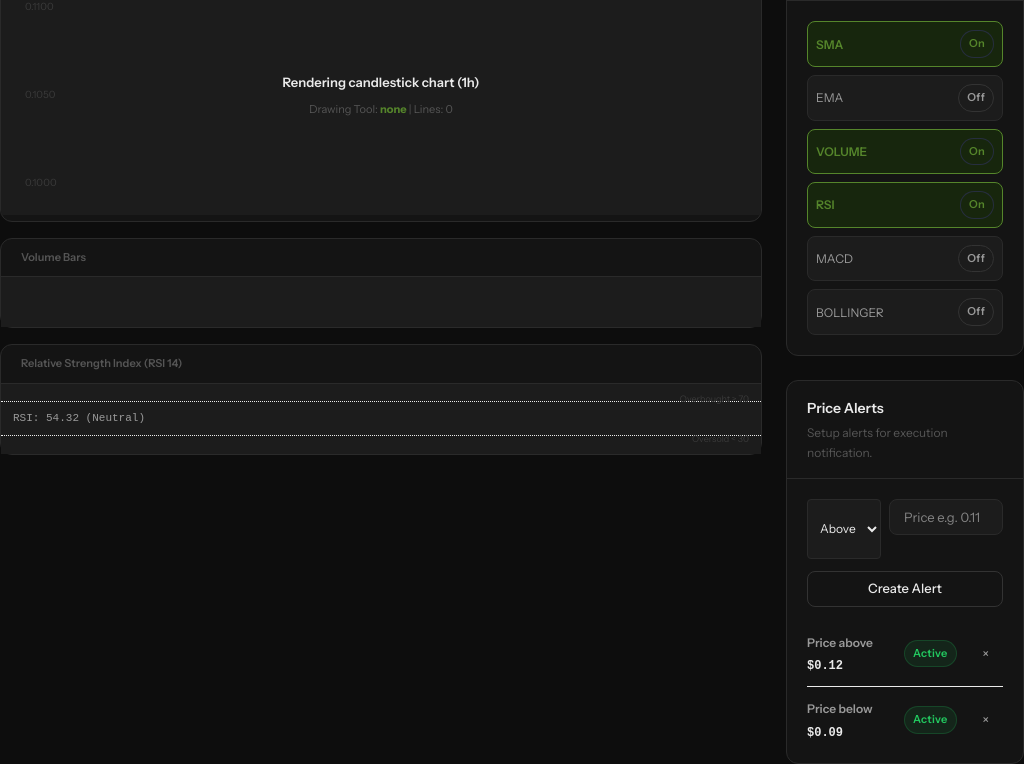
Scenario: ChartingScreen › can manage price alerts
The width and height of the screenshot is (1024, 764).
(page scrolled)
In the number field with placeholder "Price e.g. 0.11": (946, 517) [889,499,1003,535], type "0.155"
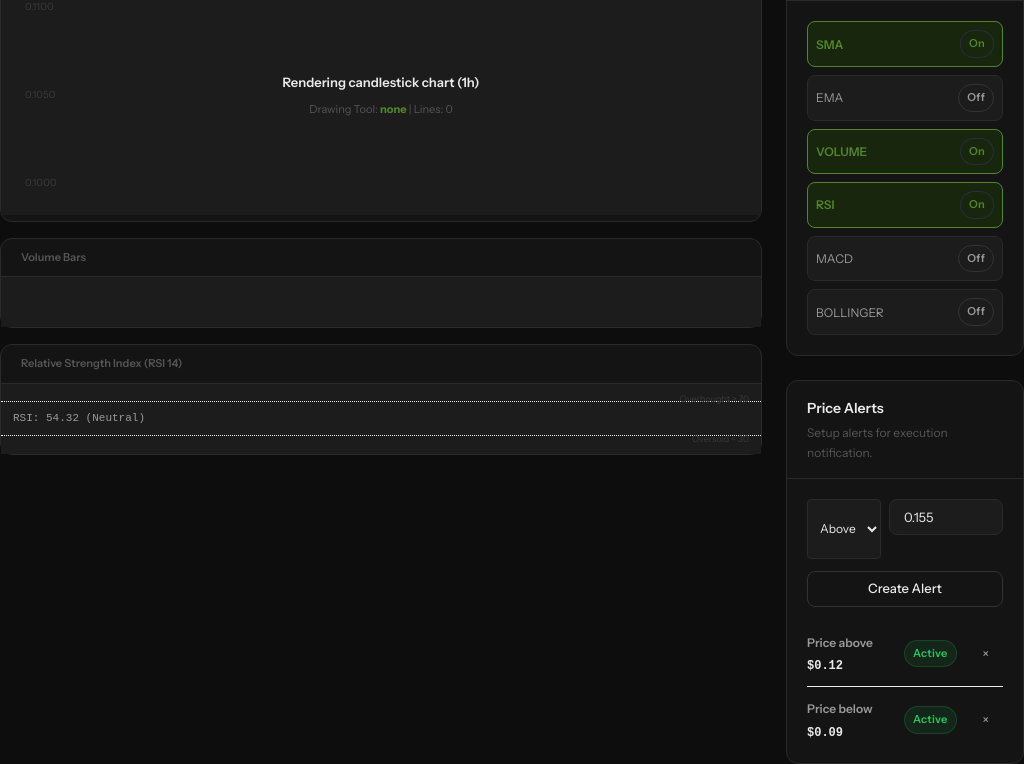
Click the button "Create Alert": (905, 589) [807,571,1003,607]
(page scrolled)
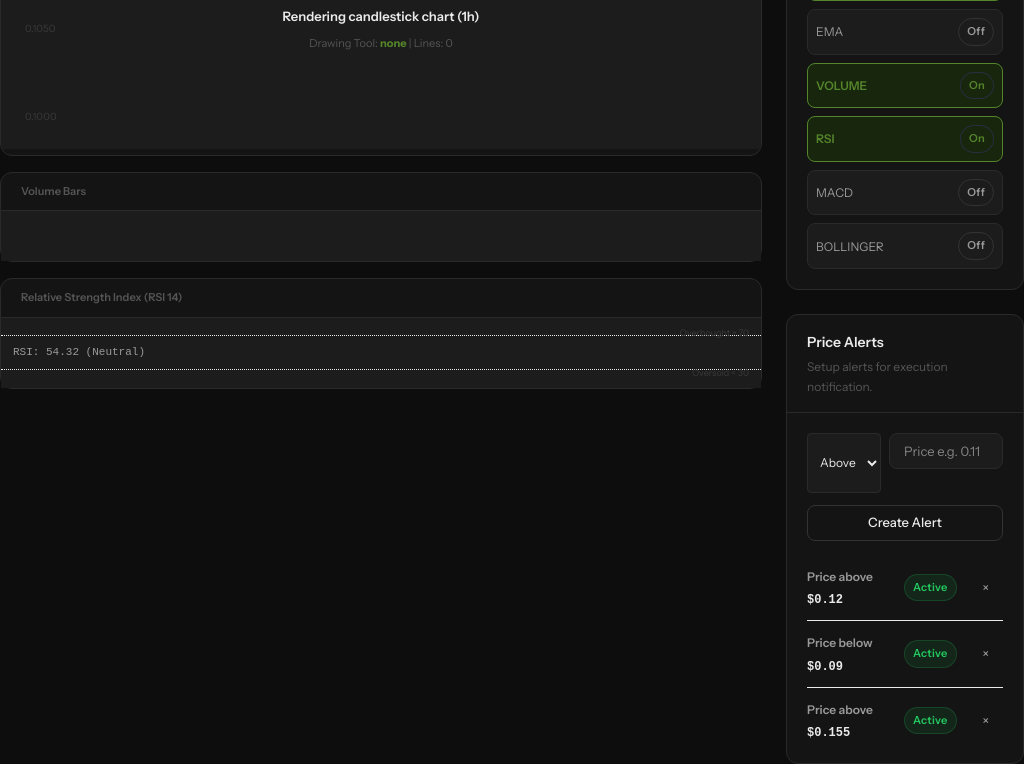
Expected: the text "$0.155" is shown, [807,726,850,740]
